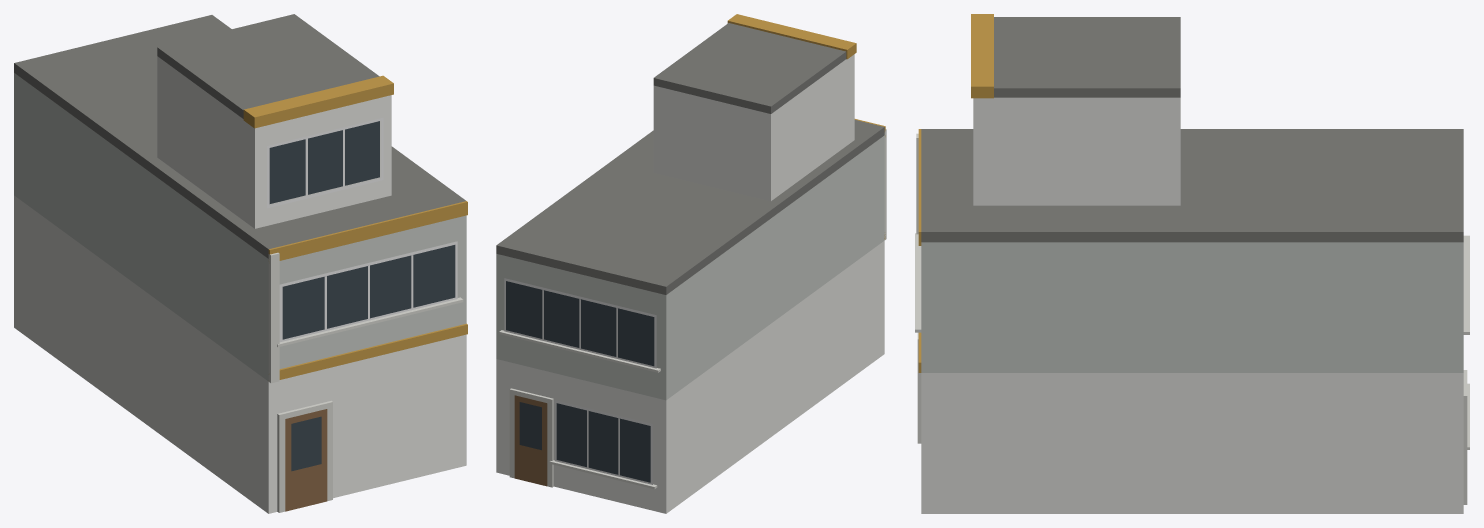
The model's file is zo-ko-patio-top__yellow__2__flat__long__solid.glb.
The picture shows the model from 3 angles, left to right: view 1: azimuth 30°, elevation 25°; view 2: azimuth 150°, elevation 25°; view 3: azimuth 270°, elevation 25°; orthographic projection. The views are drawn at different scales.
Parts seen in each view (by area): view 1: zo-ko-patio-top__yellow__2__flat__long__solid; view 2: zo-ko-patio-top__yellow__2__flat__long__solid; view 3: zo-ko-patio-top__yellow__2__flat__long__solid.
Boxes of the visible parts, box(x1,y1,x2,y2) form: zo-ko-patio-top__yellow__2__flat__long__solid: box(14, 14, 467, 513); zo-ko-patio-top__yellow__2__flat__long__solid: box(496, 14, 886, 513); zo-ko-patio-top__yellow__2__flat__long__solid: box(915, 14, 1469, 513).
Size of the model in its own units: 4.7 by 8.55 by 10.7.
